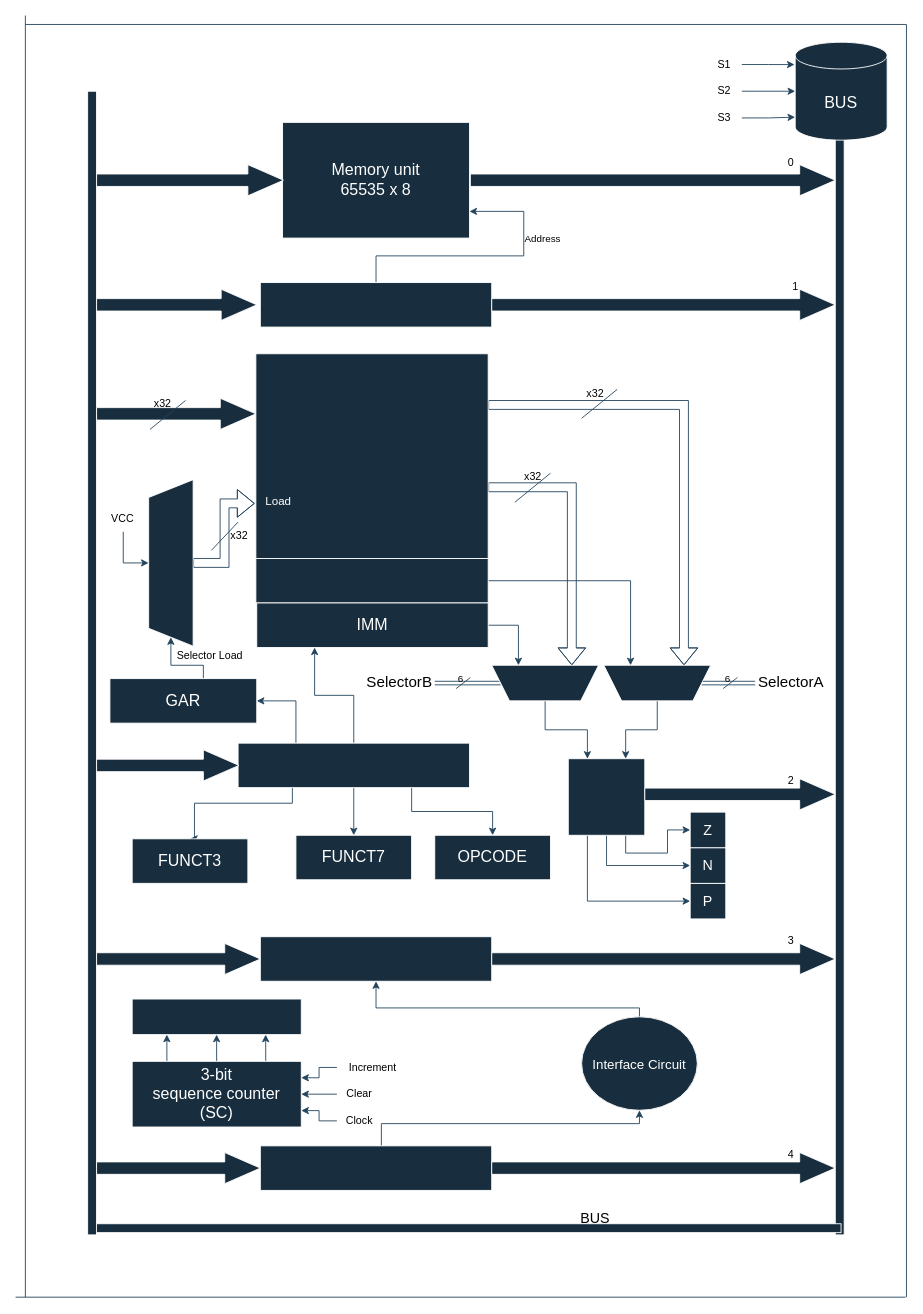
This 923x1314 diagram has some shape labels left out. Here are the shapes that lost their labels. From the top down, the box of each, then its label:
(259, 282, 492, 327): MAR
(255, 353, 488, 558): General Registers Unit x32
(255, 558, 488, 603): PC
(237, 742, 469, 788): IR
(567, 758, 645, 835): ALU
(259, 936, 492, 981): INPR
(131, 998, 301, 1035): decoder 3x8
(259, 1145, 492, 1190): OUTR
